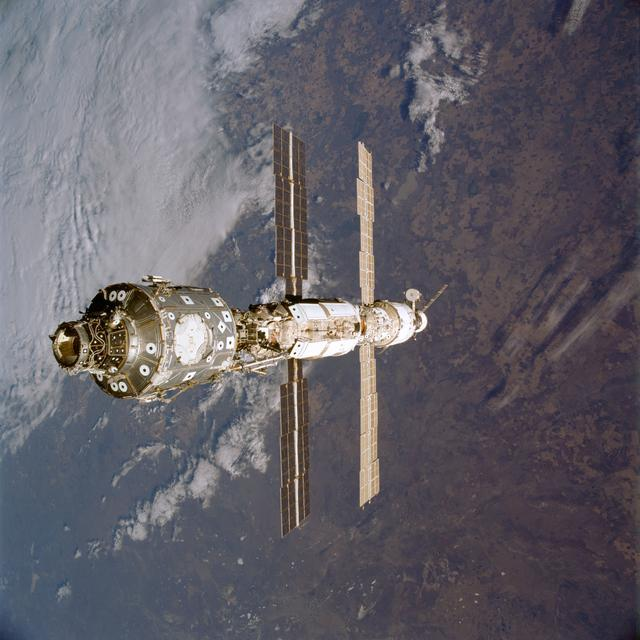satellite: (51, 126, 448, 532)
